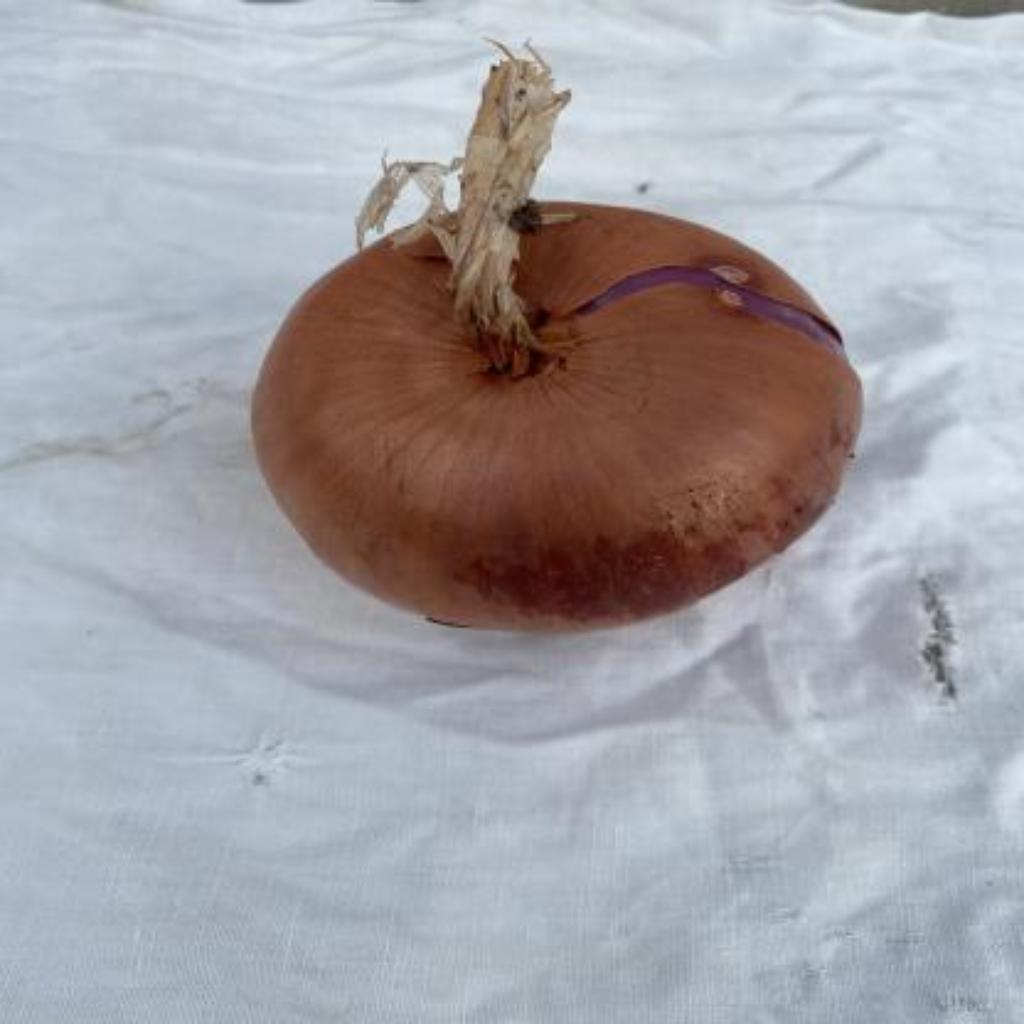Onion: (251, 44, 864, 631)
